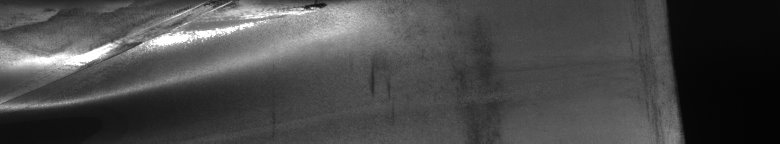ke: (4, 4, 374, 116)
